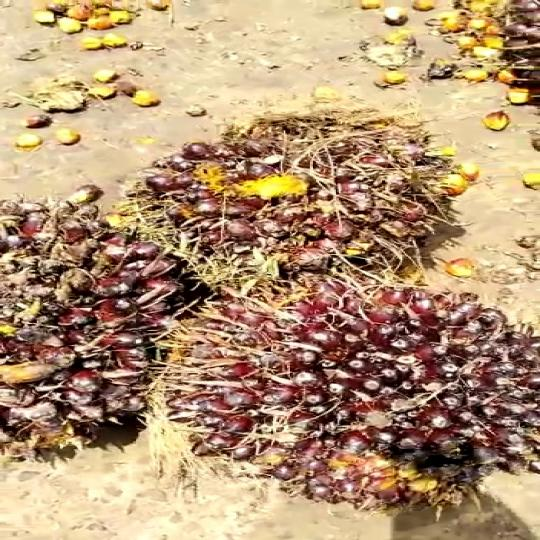kurang masak: (170, 288, 540, 527), (136, 93, 518, 313), (0, 171, 205, 481)
